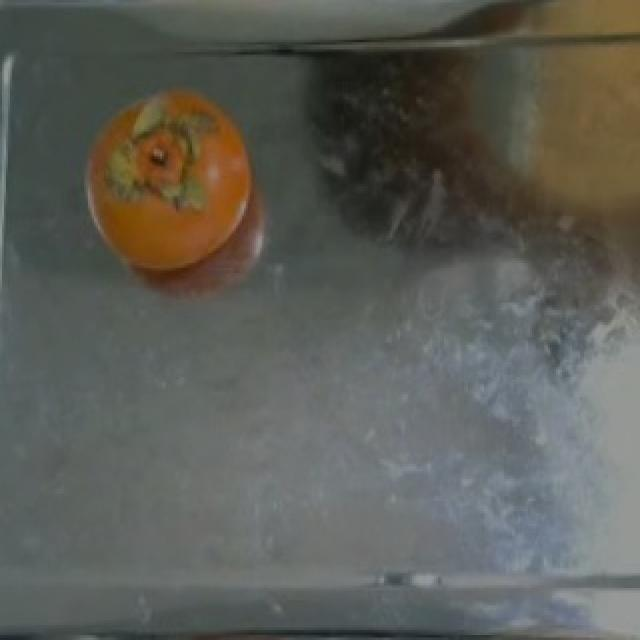Fruit: (72, 80, 270, 290), (468, 0, 640, 67)
